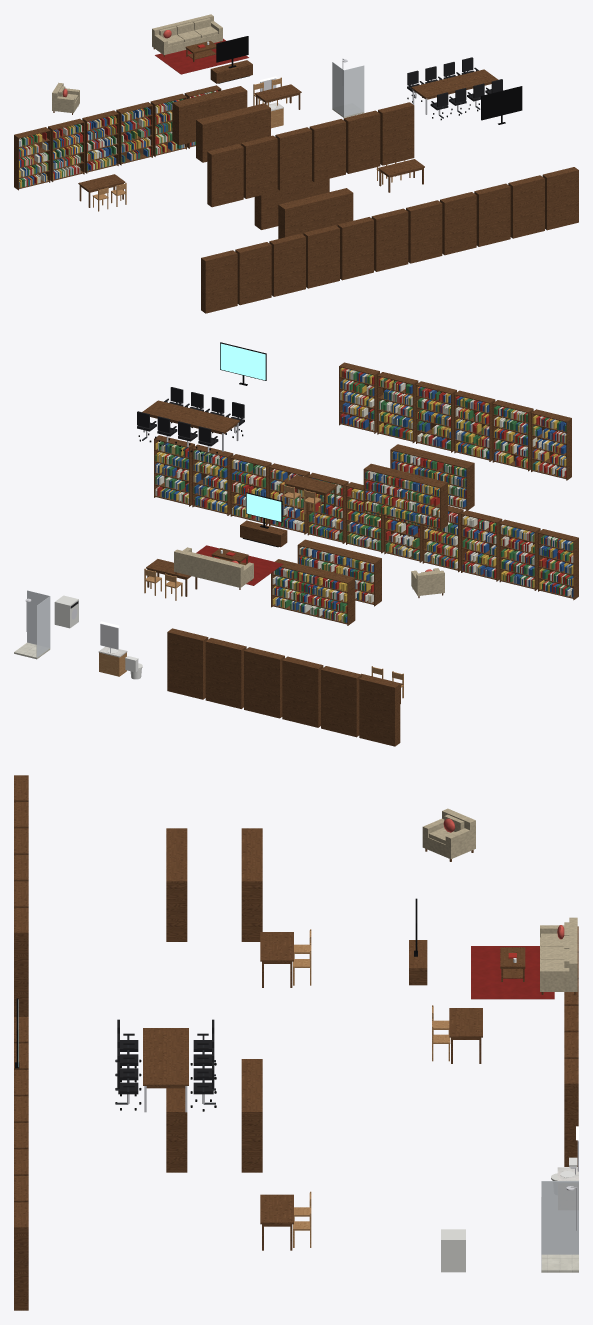
The model's file is i_library_brutalist.gltf.
The picture shows the model from 3 angles, top to bottom: view 1: azimuth 30°, elevation 25°; view 2: azimuth 150°, elevation 25°; view 3: azimuth 270°, elevation 25°; orthographic projection. The views are drawn at different scales.
Parts seen in each view (by area): view 1: I_library_brutalist; view 2: I_library_brutalist; view 3: I_library_brutalist.
Boxes of the visible parts, x1,y1,x2,y2 form: I_library_brutalist: (14, 14, 578, 313); I_library_brutalist: (14, 342, 578, 746); I_library_brutalist: (14, 775, 578, 1310).
Size of the model in its own units: 17.16 by 6.6 by 13.51.
22 materials, 8 textured.
